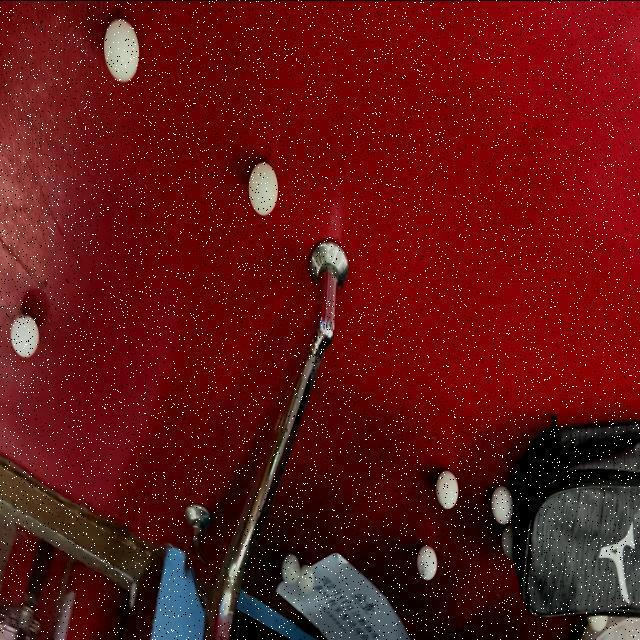ping-pong-ball: (102, 11, 140, 86), (246, 157, 282, 220), (8, 309, 42, 361), (432, 461, 460, 517), (488, 477, 518, 527), (414, 540, 440, 586), (278, 546, 303, 588), (298, 558, 316, 598)
